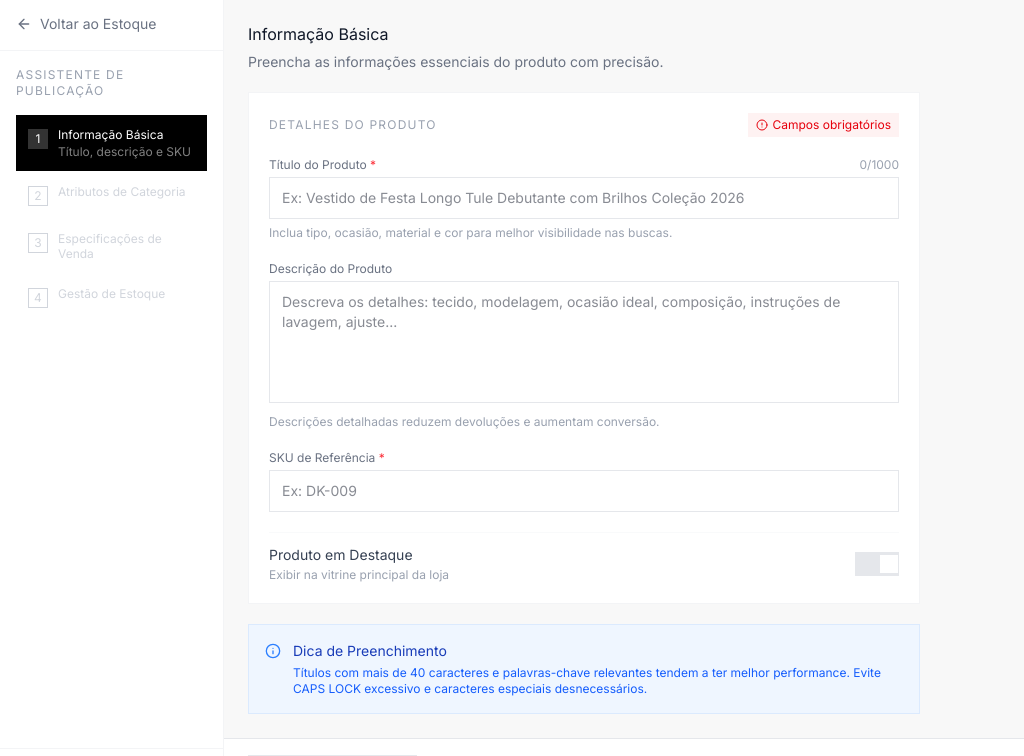
AddProduct › exige departamento e categoria no segundo passo
Type "Vestido Gala" into the field with placeholder "Ex: Vestido de Festa Longo" at (584, 198), box left=269, top=177, right=899, bottom=219
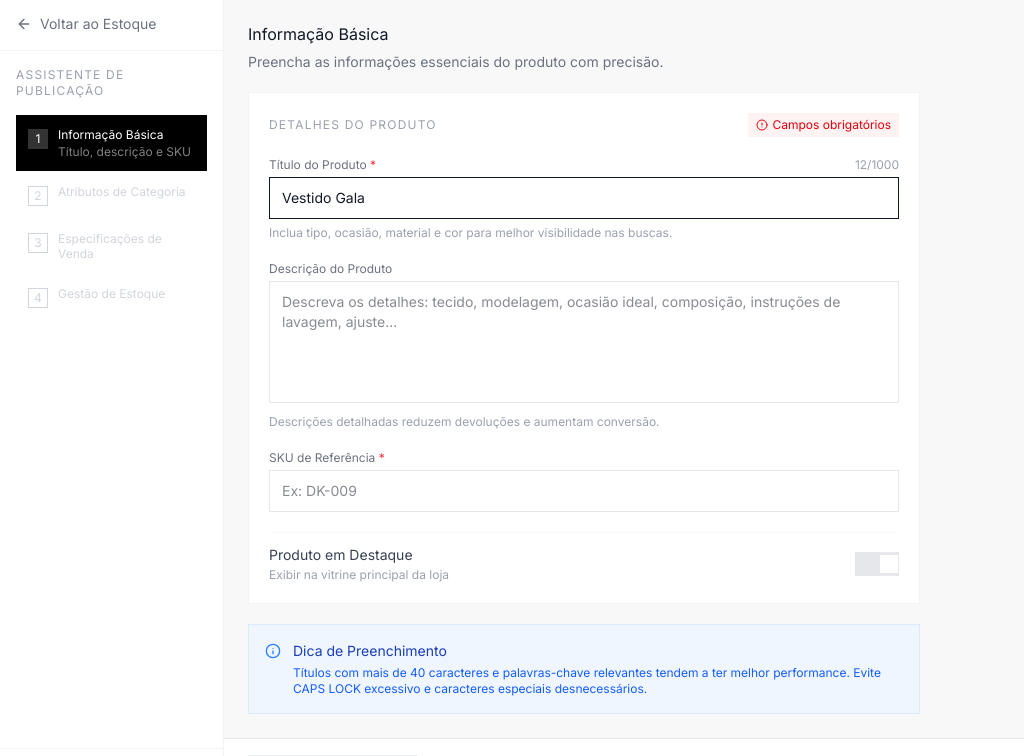
Type "Longo em tule" into the text box with placeholder "Descreva os detalhes" at (584, 342), box left=269, top=281, right=899, bottom=403
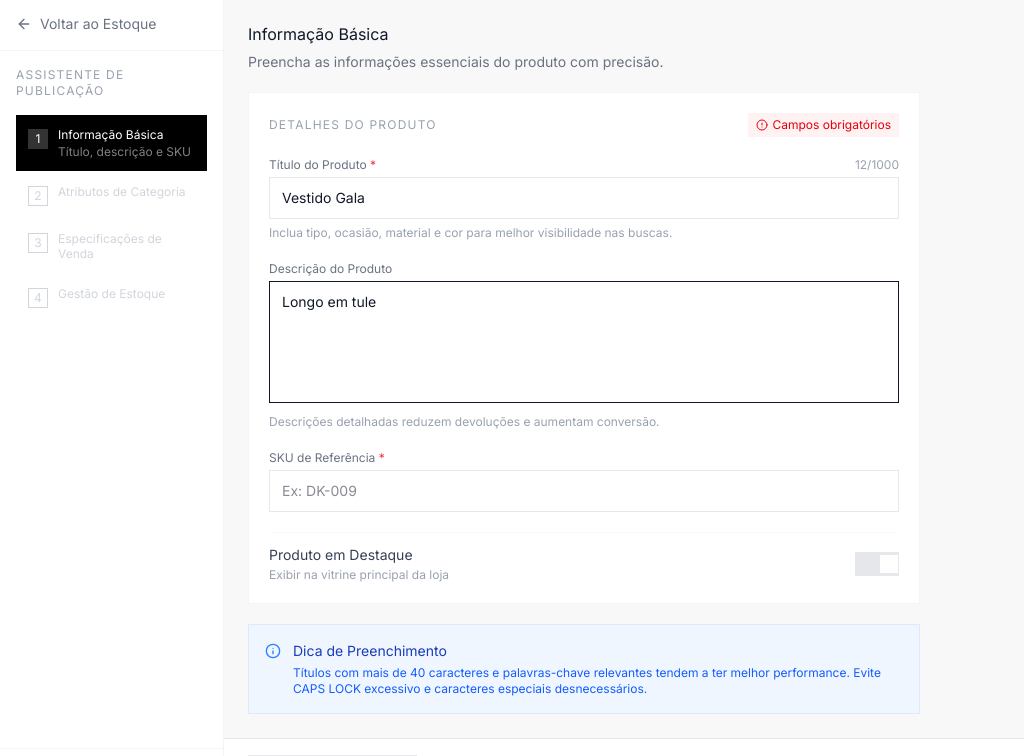
Type "DK-GALA" into the field with placeholder "Ex: DK-009" at (584, 491), box left=269, top=470, right=899, bottom=512
(page scrolled)
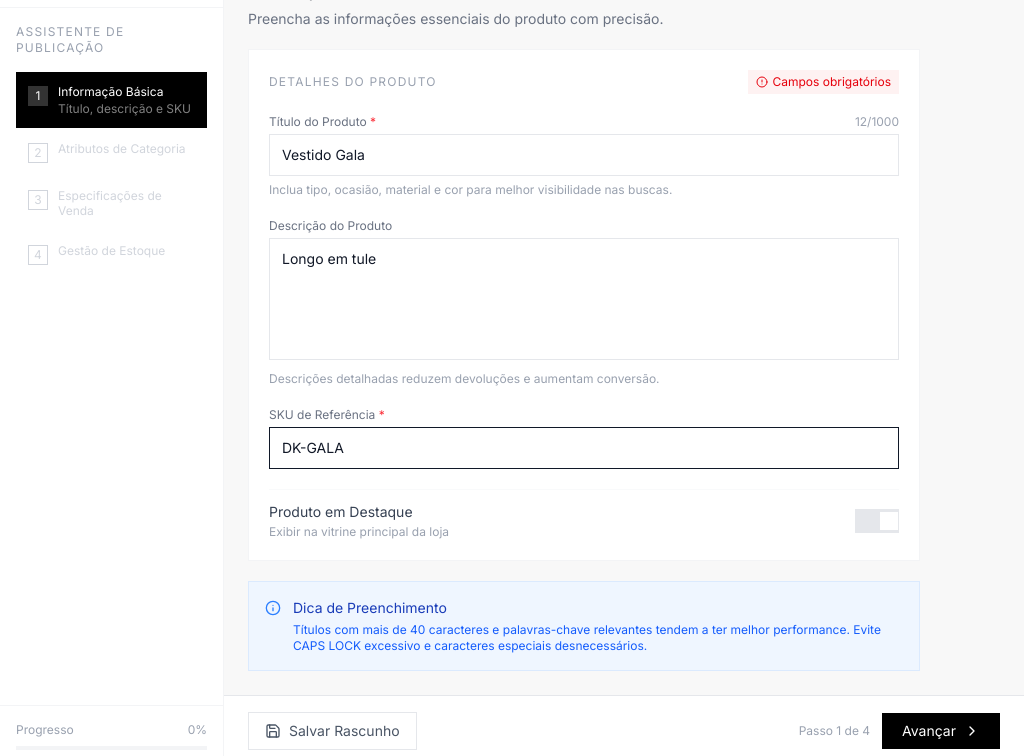
Click the button "Avançar" at (941, 731), box left=882, top=713, right=1000, bottom=749
(page scrolled)
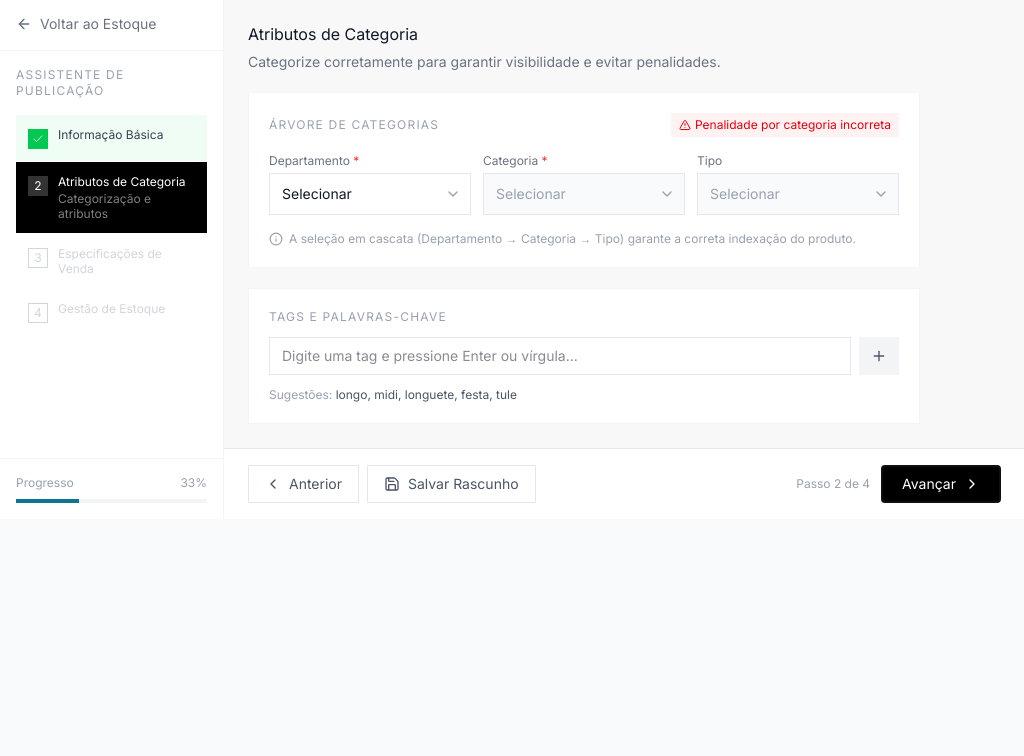
Expected: the text "Passo 2 de 4" is shown, left=796, top=476, right=870, bottom=492
Click the button "Avançar" at (941, 484), box left=882, top=466, right=1000, bottom=502
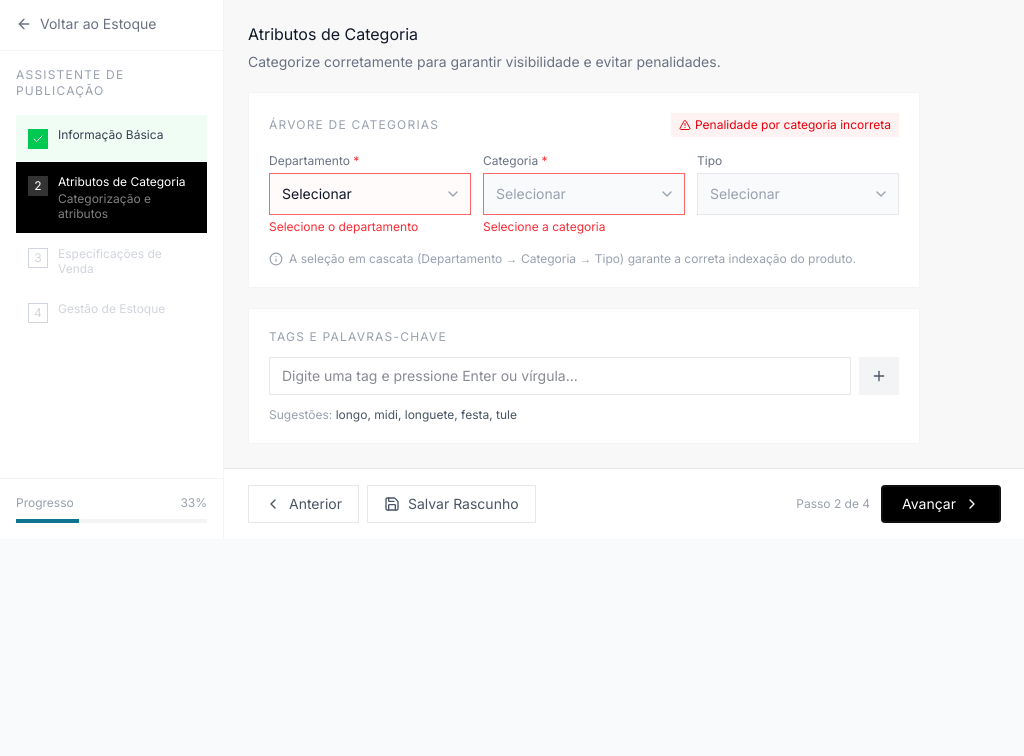
Expected: the text "Selecione o departamento" is shown, left=269, top=219, right=418, bottom=234
Expected: the text "Selecione a categoria" is shown, left=483, top=219, right=606, bottom=234
Click the button "Anterior" at (304, 504), box left=248, top=485, right=359, bottom=523
(page scrolled)
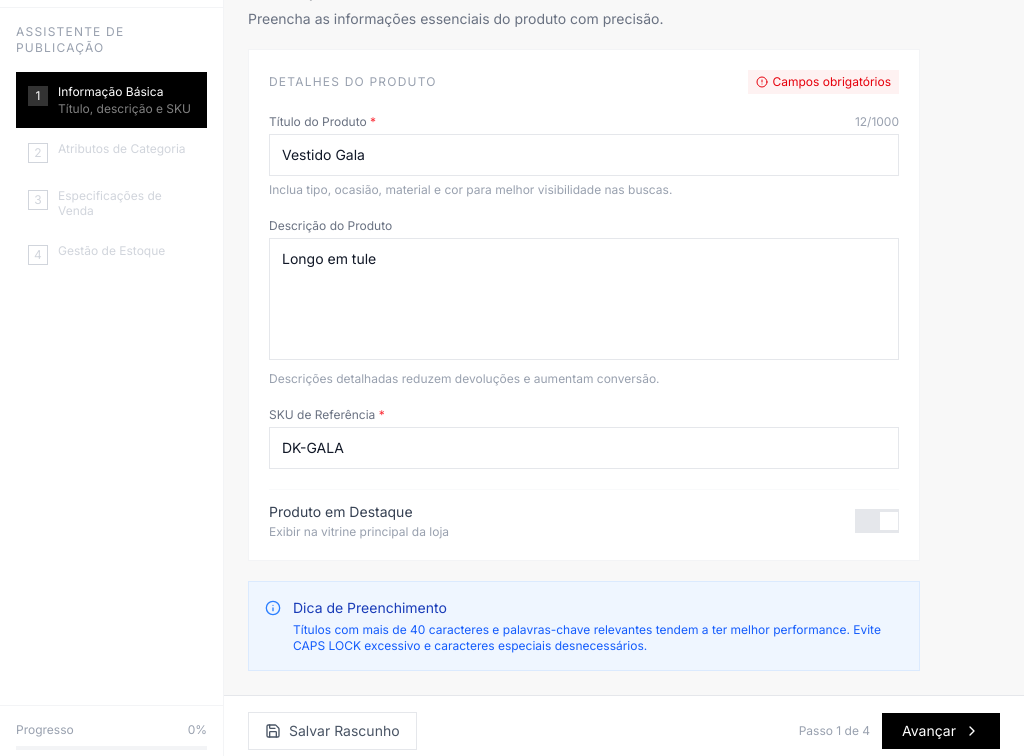
Expected: the text "Passo 1 de 4" is shown, left=799, top=723, right=870, bottom=739
